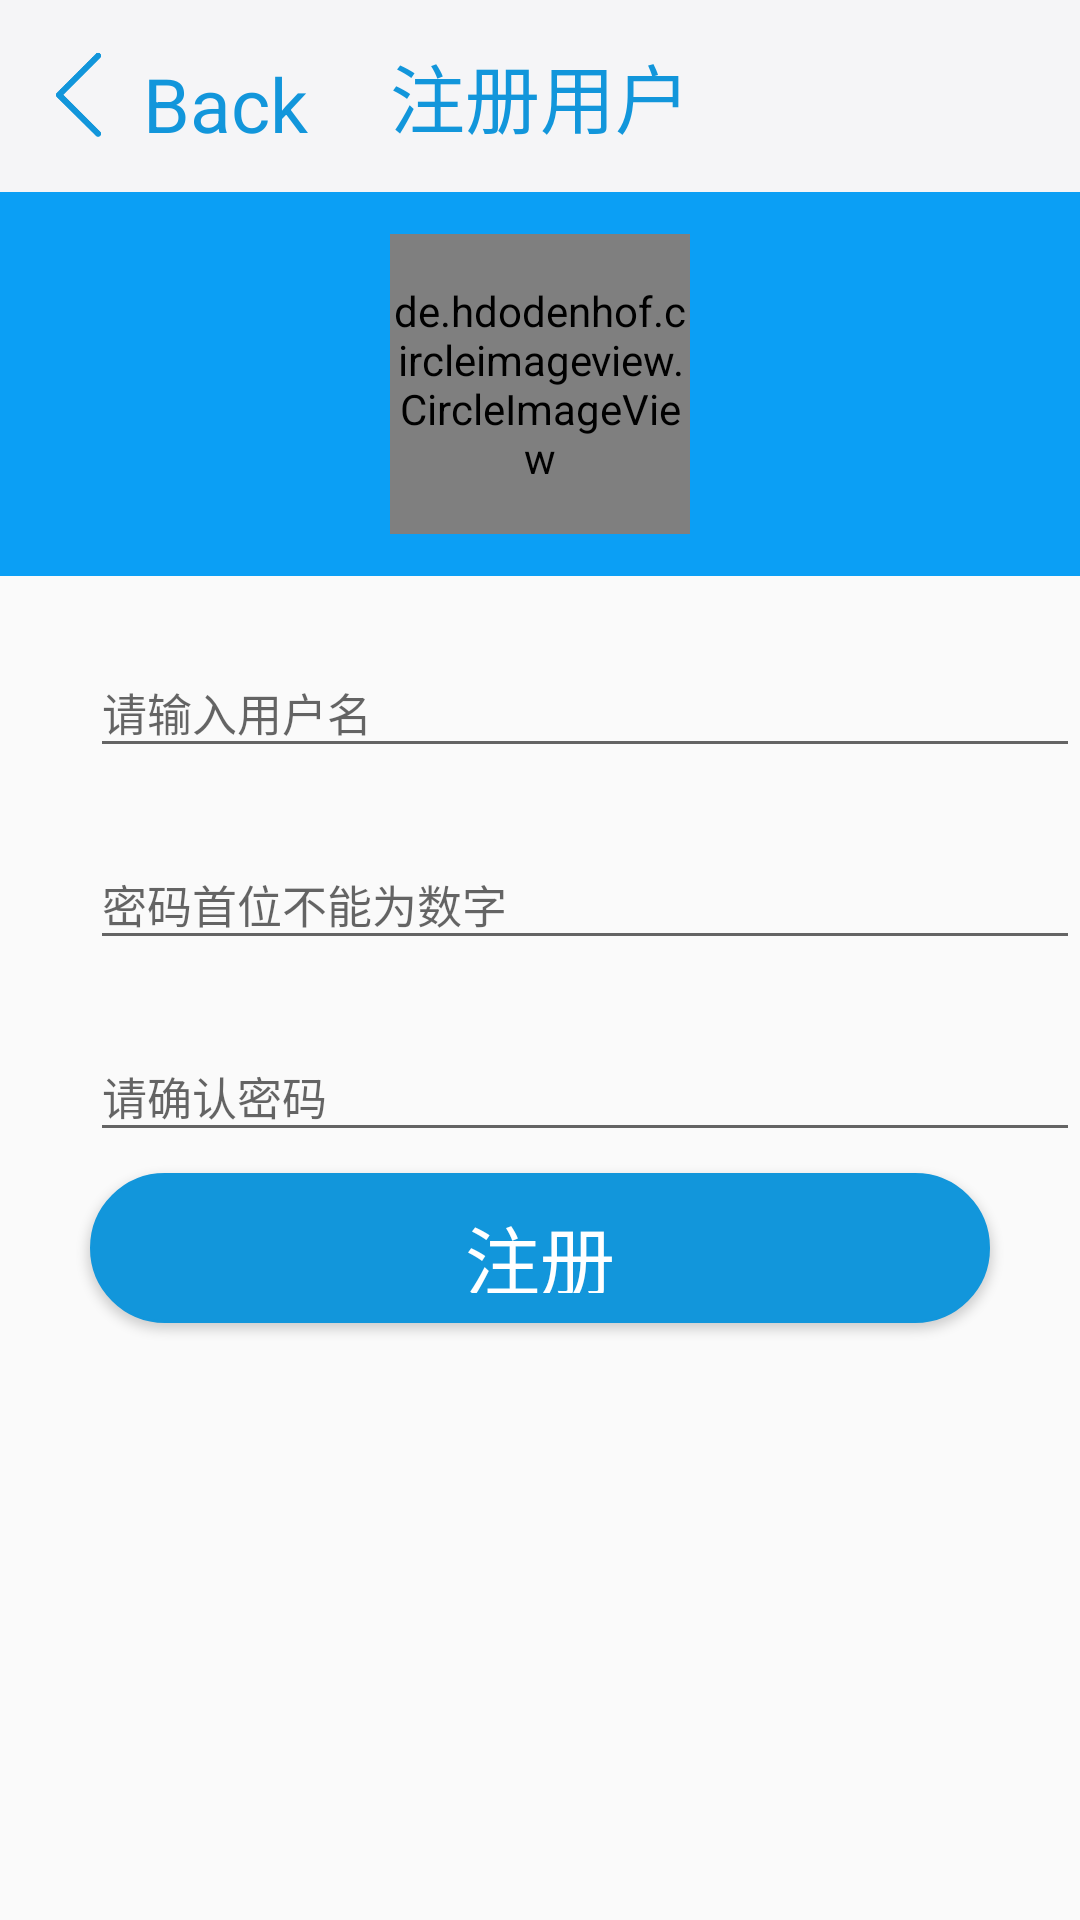

Where to tap for icons on this 1080px x 1920px app screen, as point (x, y):
fanhui: point (78, 95)
